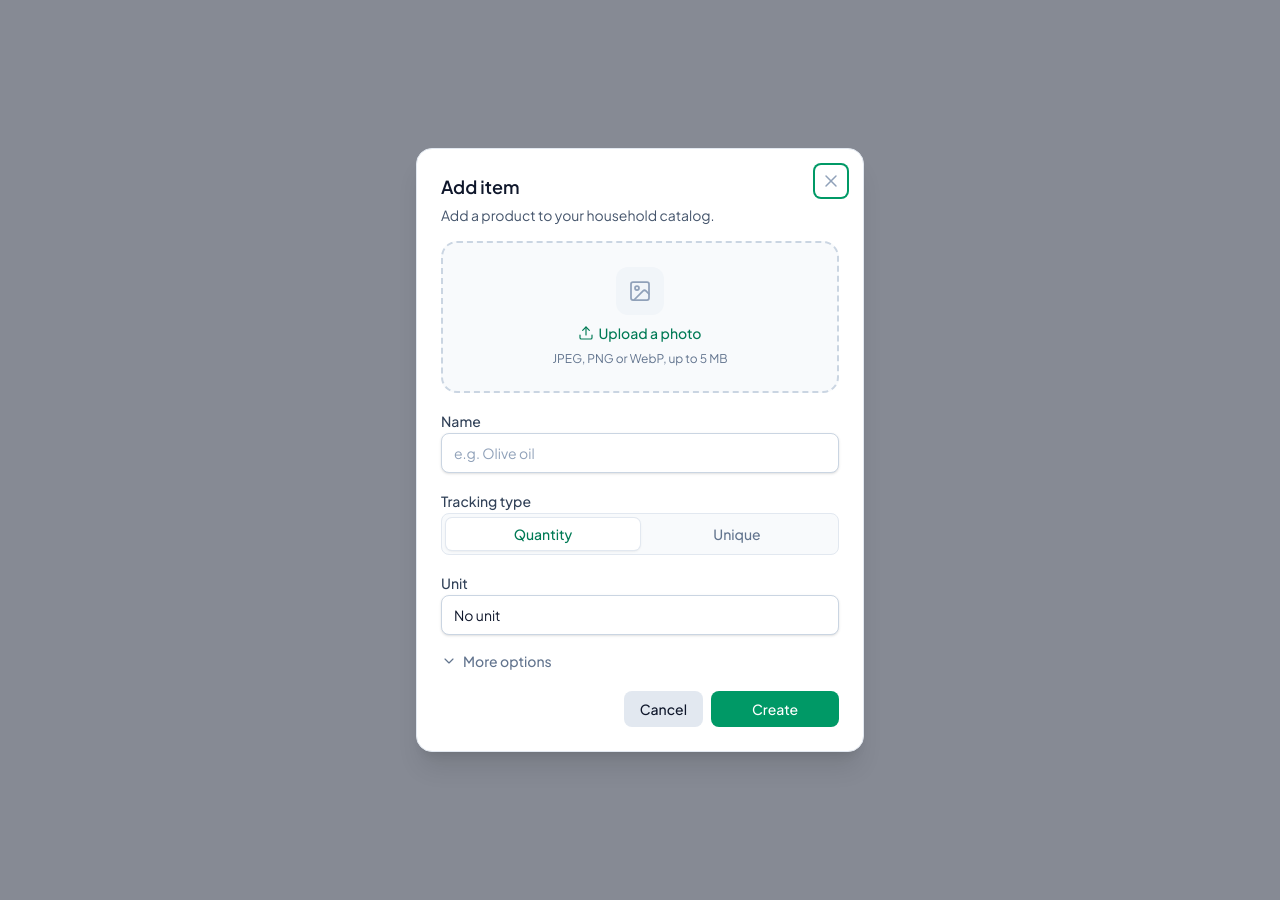
Test case: CreateItemDialog › shows the unit field only for quantity-tracked items
expect the dropdown labelled "Unit" is shown: met, box x1=441 y1=595 x2=839 y2=635
Tracking type is a pill toggle — click the button directly.
Click the button "Unique": [737, 534] box x1=640 y1=518 x2=834 y2=550
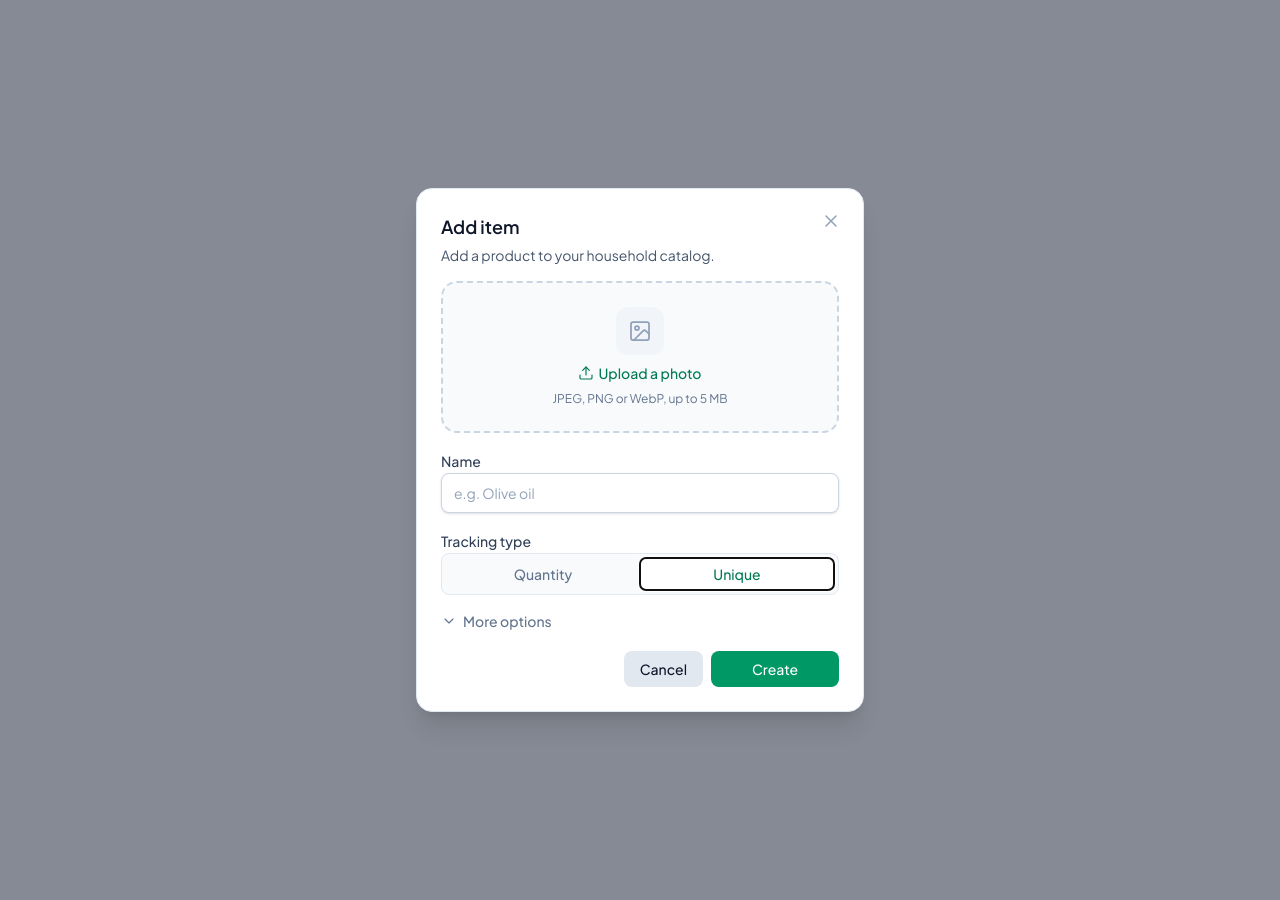
expect the label labelled "Unit" is gone: met
Click the button "Quantity": [543, 574] box x1=446 y1=558 x2=640 y2=590
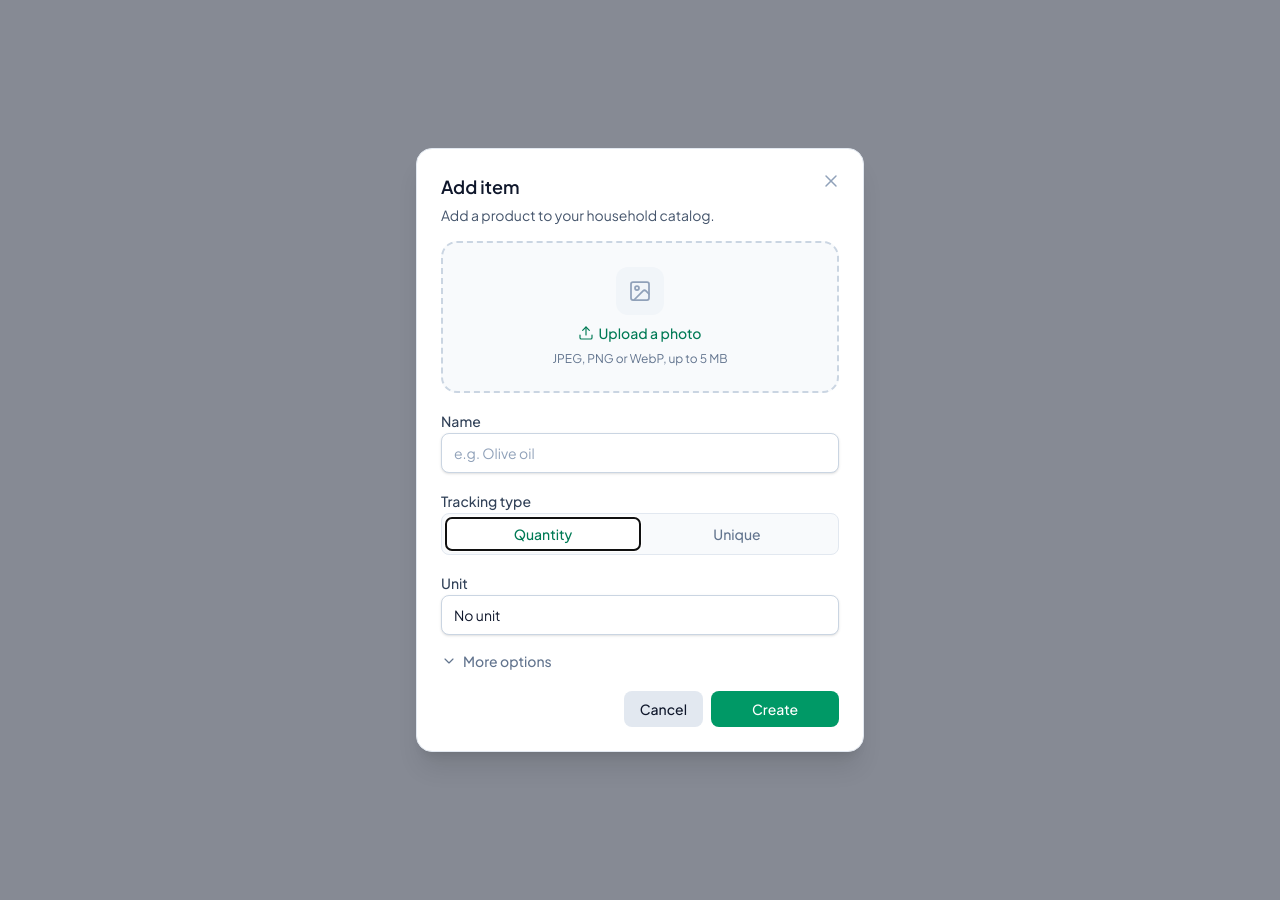
expect the dropdown labelled "Unit" is shown: met, box x1=441 y1=595 x2=839 y2=635
